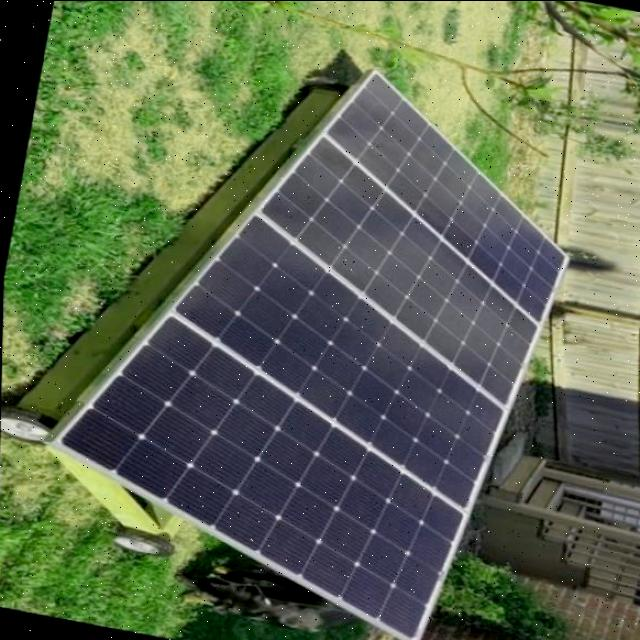Normal Solar Panel: (29, 24, 595, 640)
